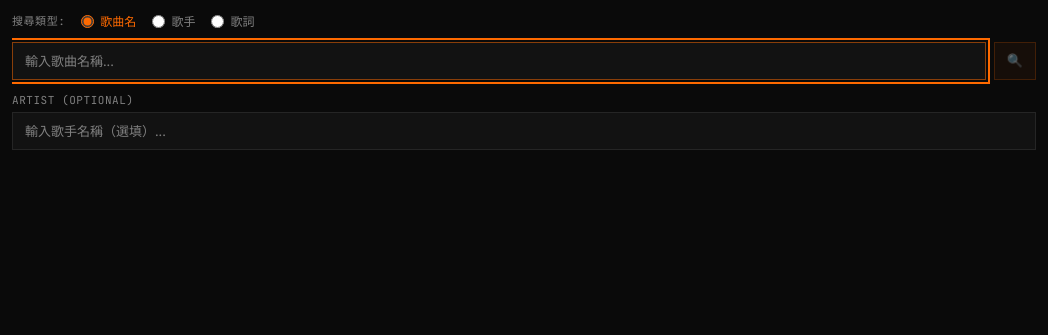
Test: LyricsSearchPanel › shows error when getLyricsDetail fails
The image size is (1048, 335).
Type "Test Song" into the field with placeholder "輸入歌曲名稱..." at (499, 61), box [12,42,986,80]
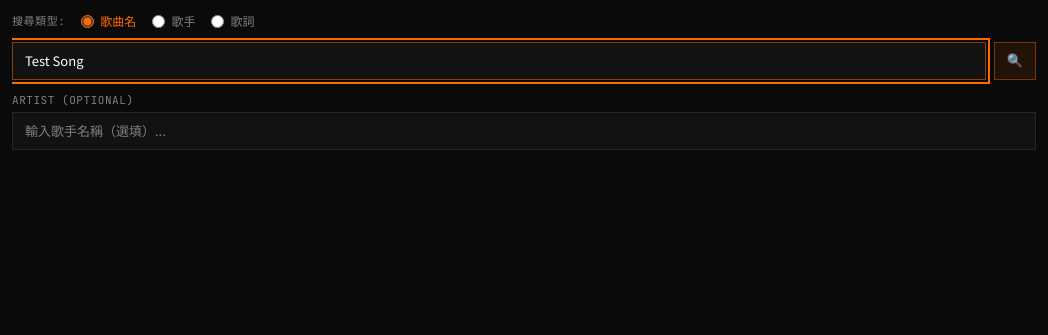
Press Enter in the field with placeholder "輸入歌曲名稱...", box [12,42,986,80]
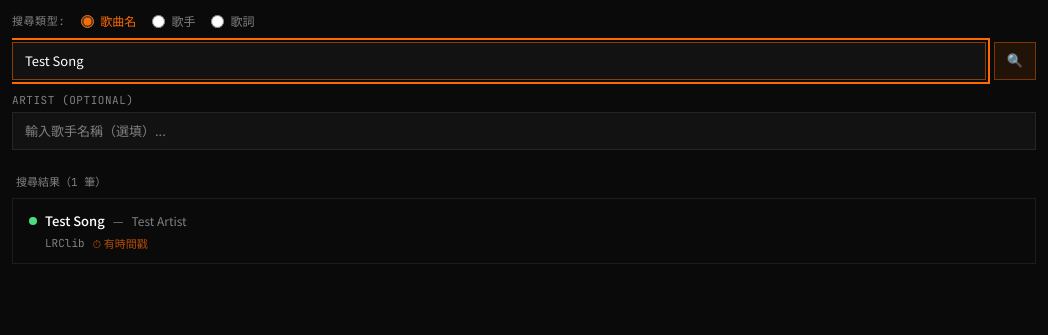
Expected: the text "Test Song" is shown, [45,211,105,230]
Click the button "Test Song — Test Artist LRClib ⏱ 有時間戳" at (75, 220), box [12,198,1036,264]
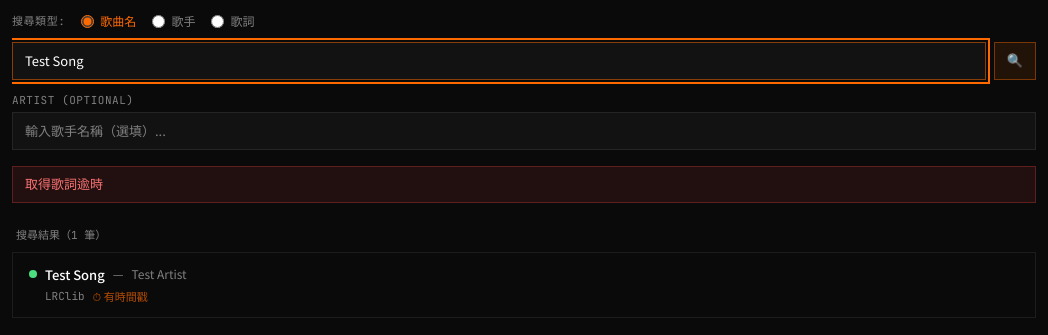
Expected: the text "取得歌詞逾時" is shown, [12,166,1036,203]
